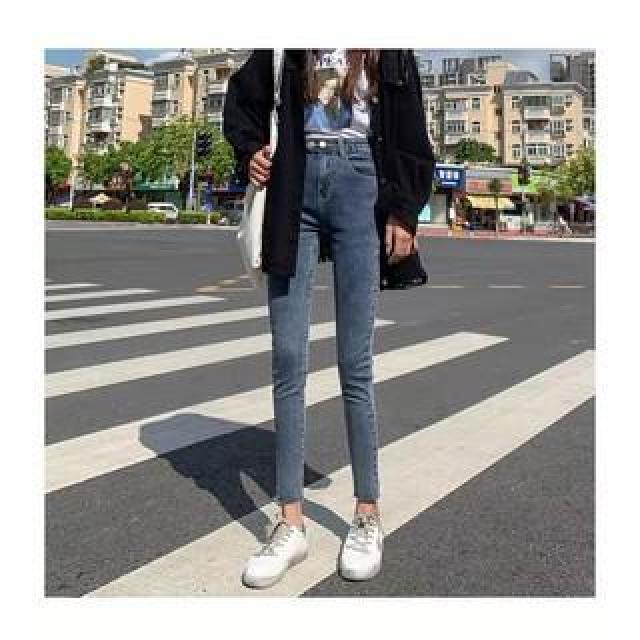pants: (251, 132, 409, 516)
